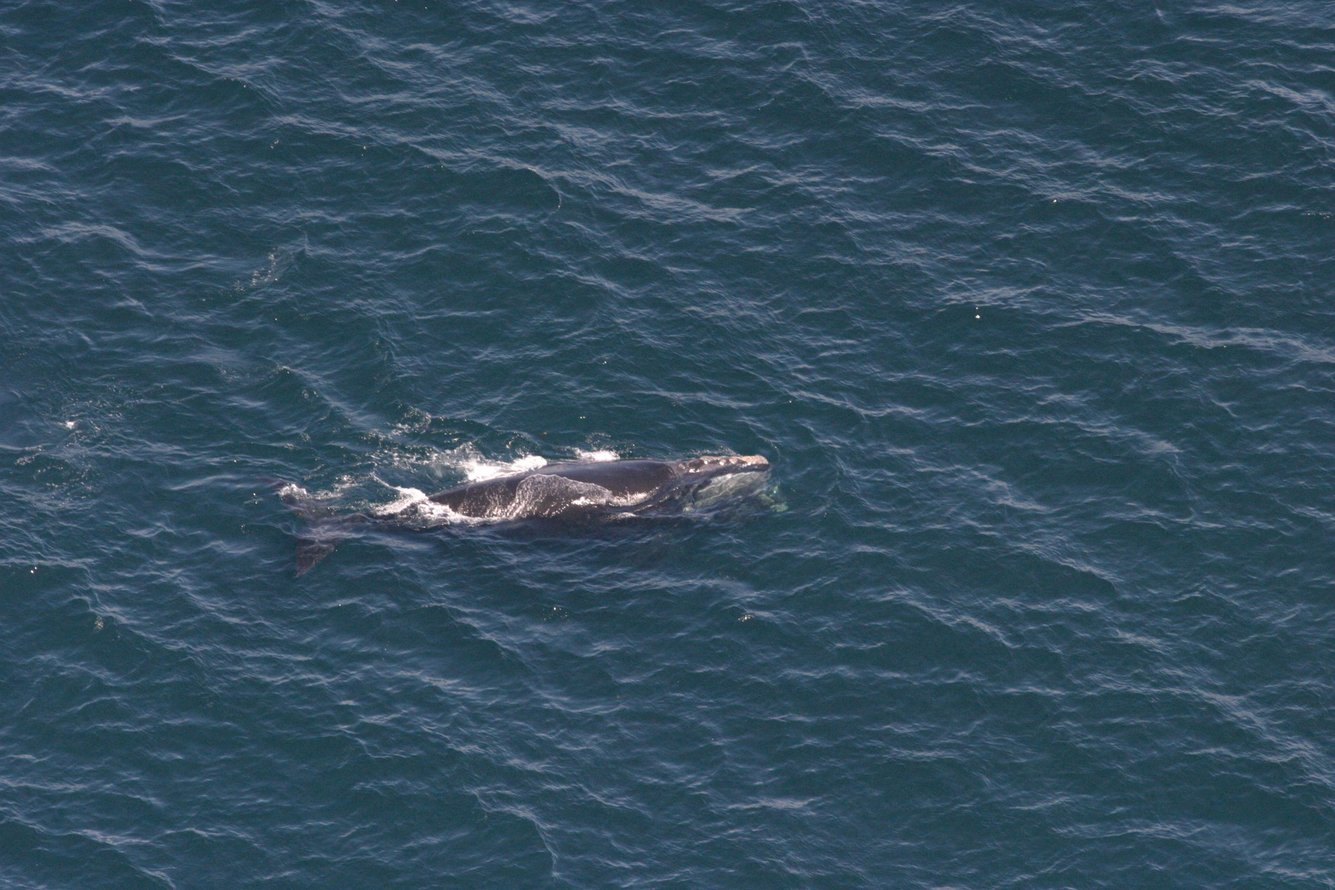whale: (246, 438, 806, 585)
